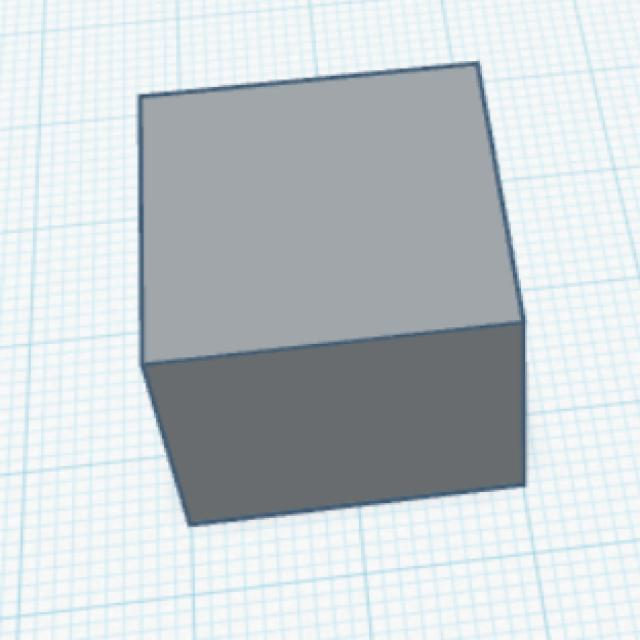cube: (134, 56, 532, 532)
